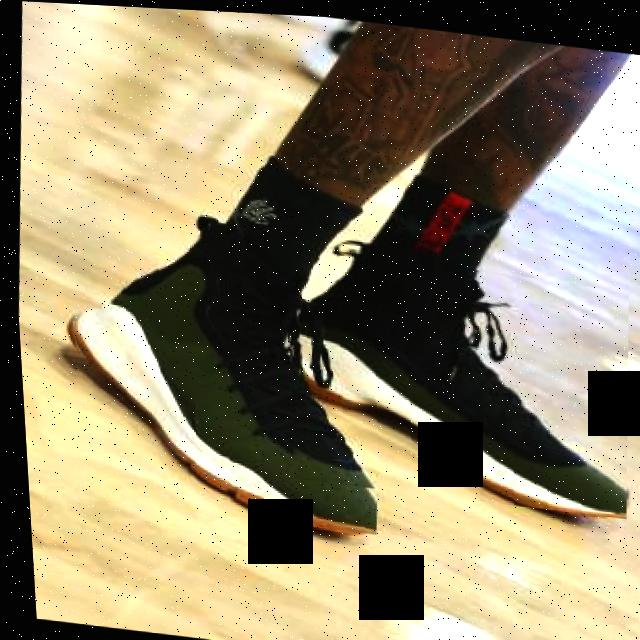shoe: (50, 213, 389, 531), (266, 237, 636, 512)
